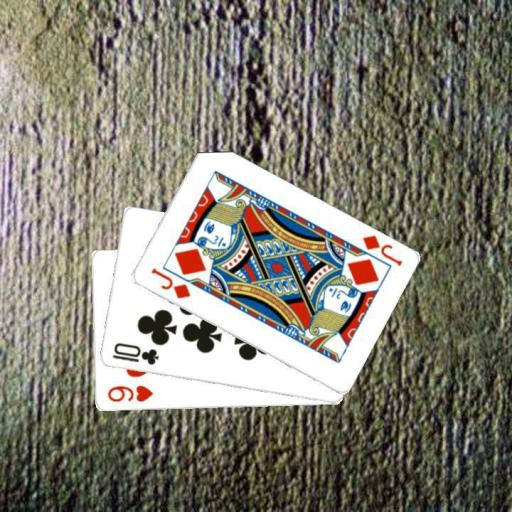card-corner: (358, 232, 404, 268), (147, 264, 191, 301), (109, 340, 160, 367), (104, 382, 154, 404)
